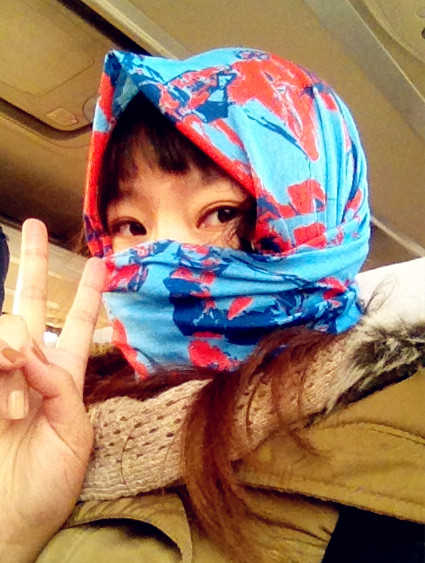face_mask: (101, 117, 262, 373)
